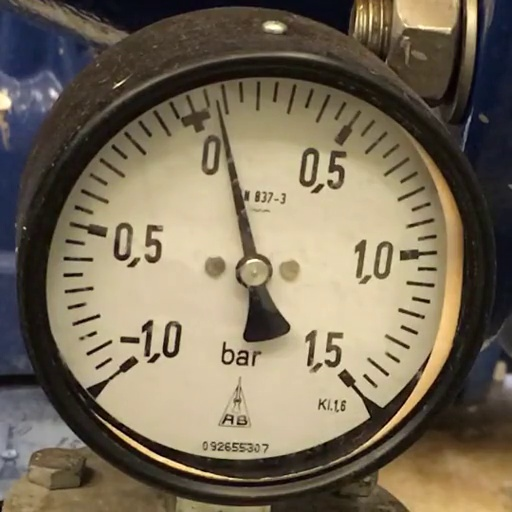base: (235, 254, 273, 288)
circle_plate: (46, 78, 466, 460)
maximum: (337, 368, 356, 388)
minimum: (120, 356, 138, 372)
number: (120, 319, 182, 363), (113, 222, 164, 268), (299, 147, 347, 194), (354, 239, 394, 285), (305, 329, 344, 373), (200, 134, 222, 176)
tip: (214, 96, 220, 106)
